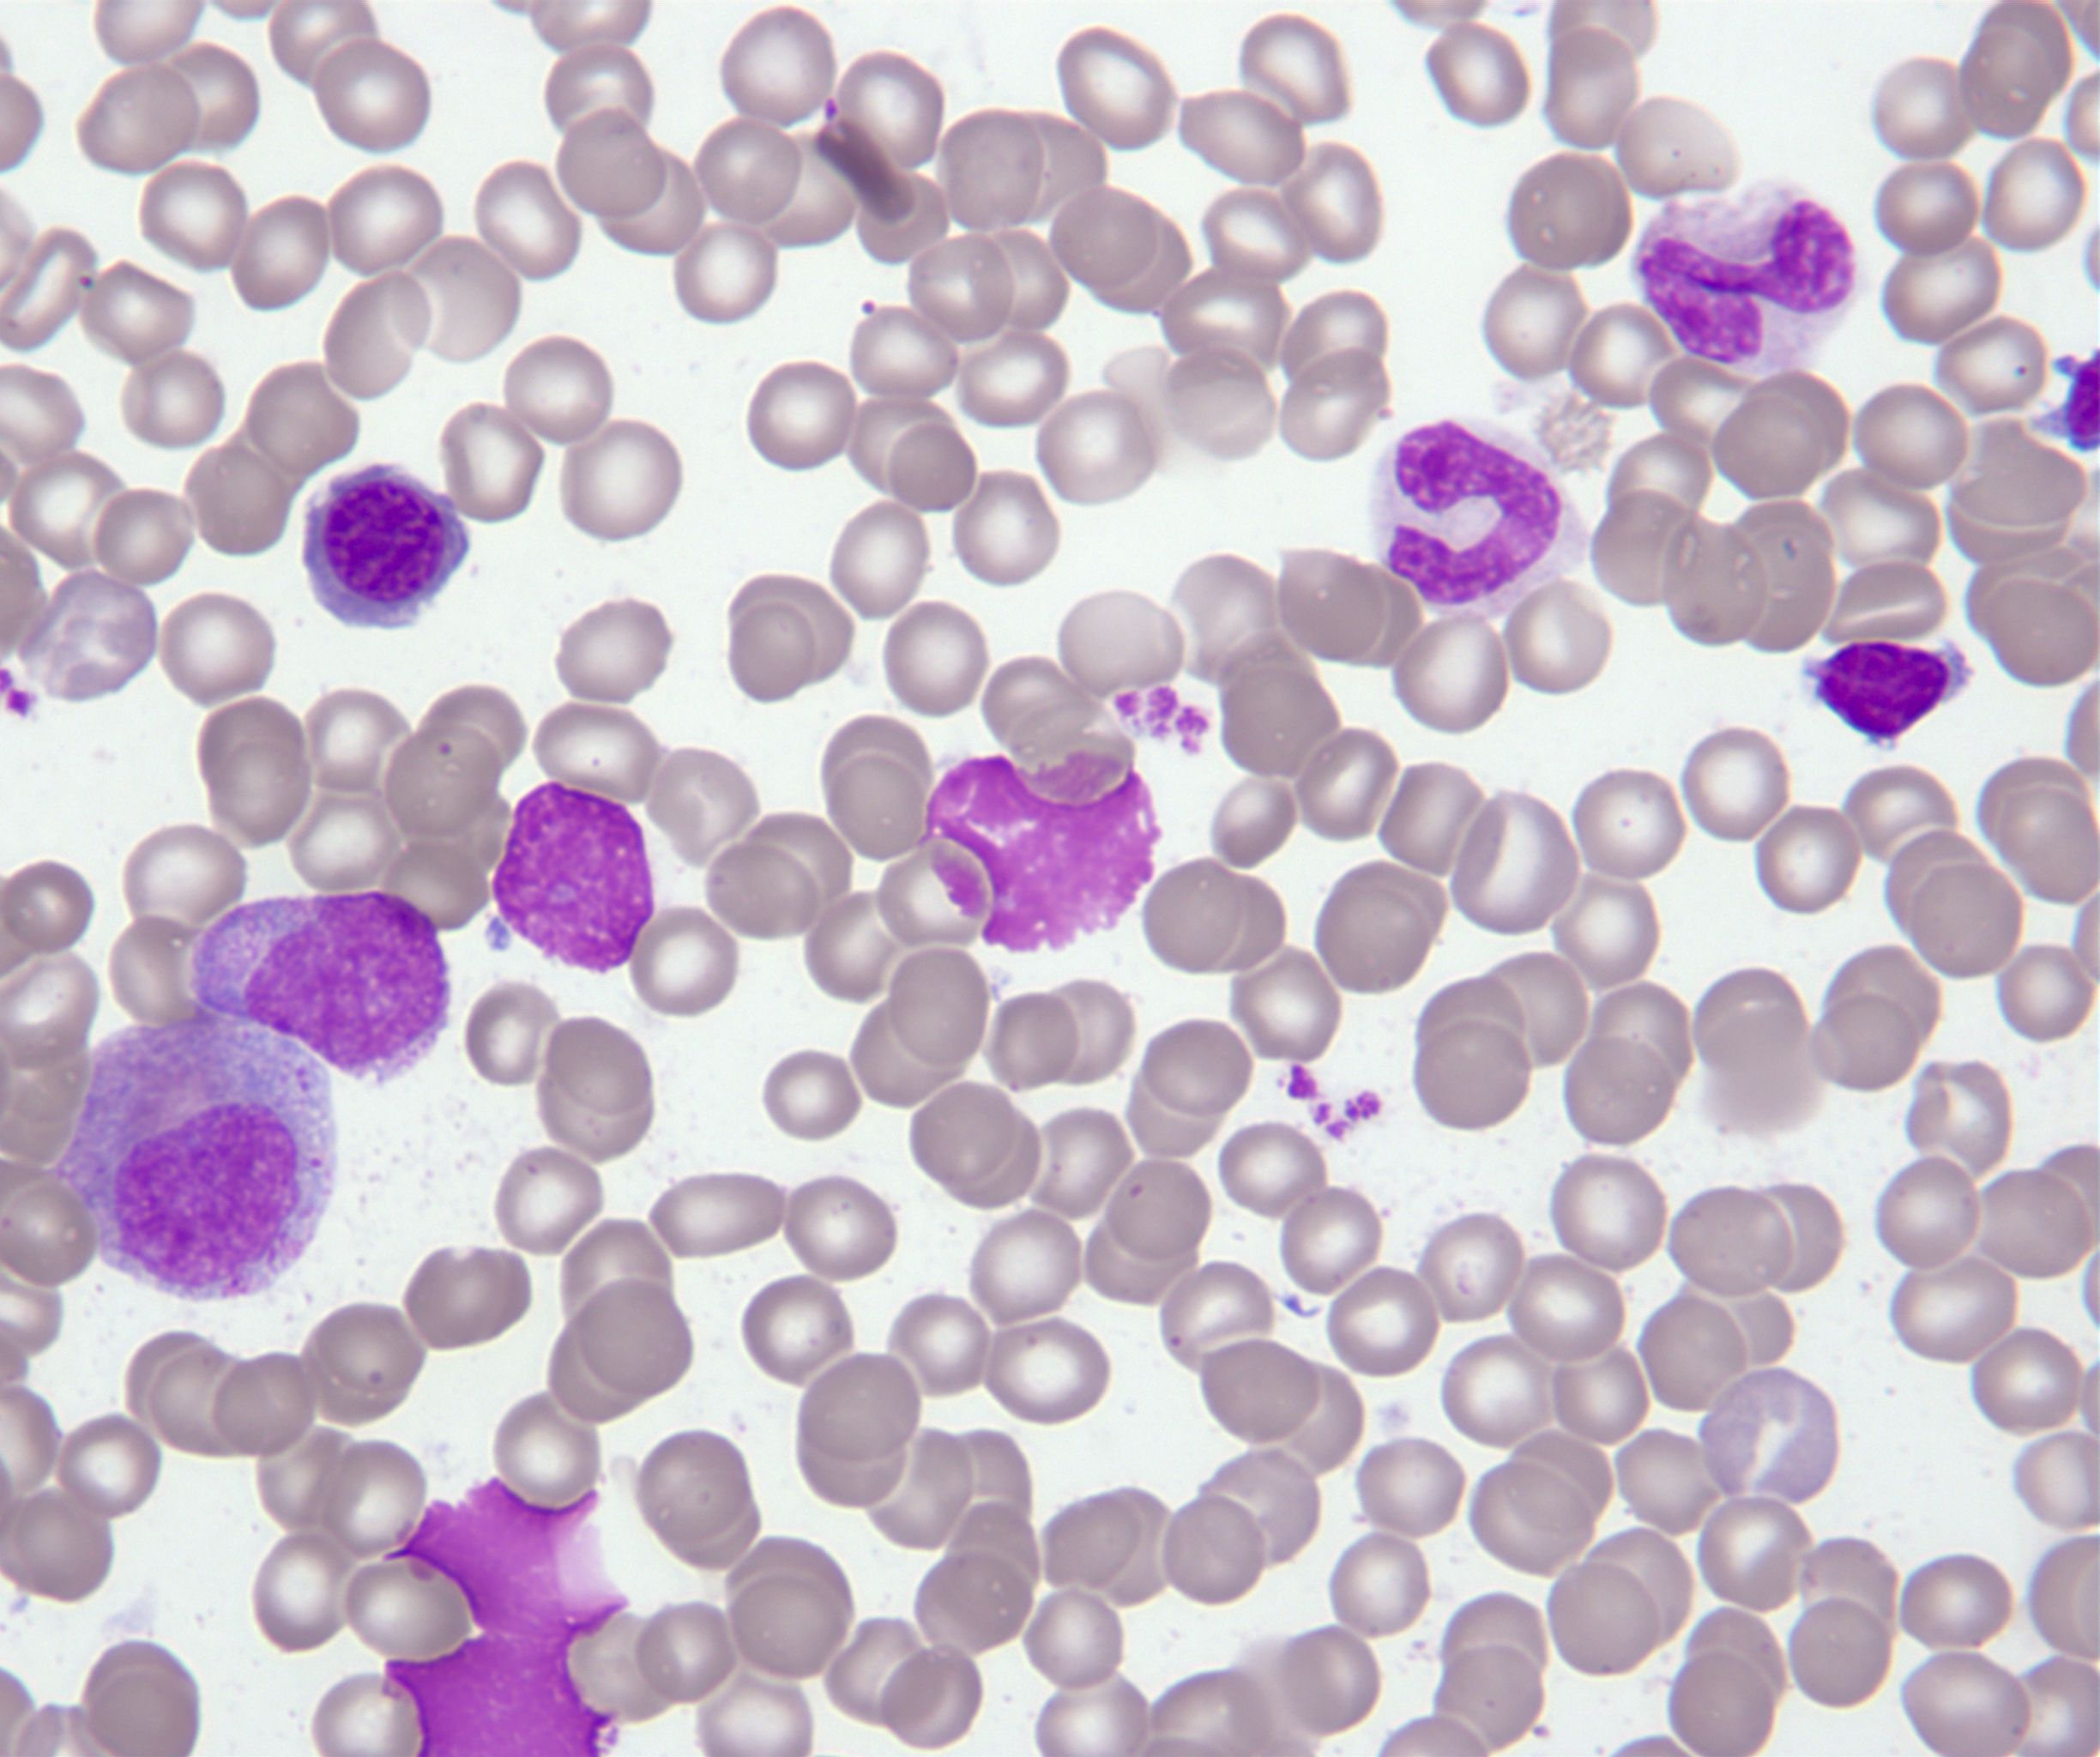23: (298, 462, 478, 633)
3: (52, 1003, 338, 1307), (180, 888, 455, 1092)
32: (1798, 633, 1981, 757)
5: (1629, 173, 1865, 386), (1366, 414, 1591, 619)
x: (485, 778, 661, 977)
